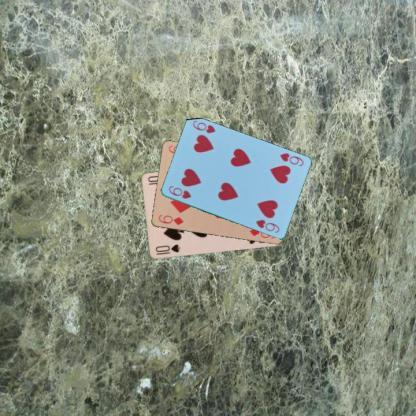10s: (152, 242, 182, 256)
6d: (156, 212, 184, 226)
6h: (276, 150, 304, 167), (166, 183, 192, 200)
